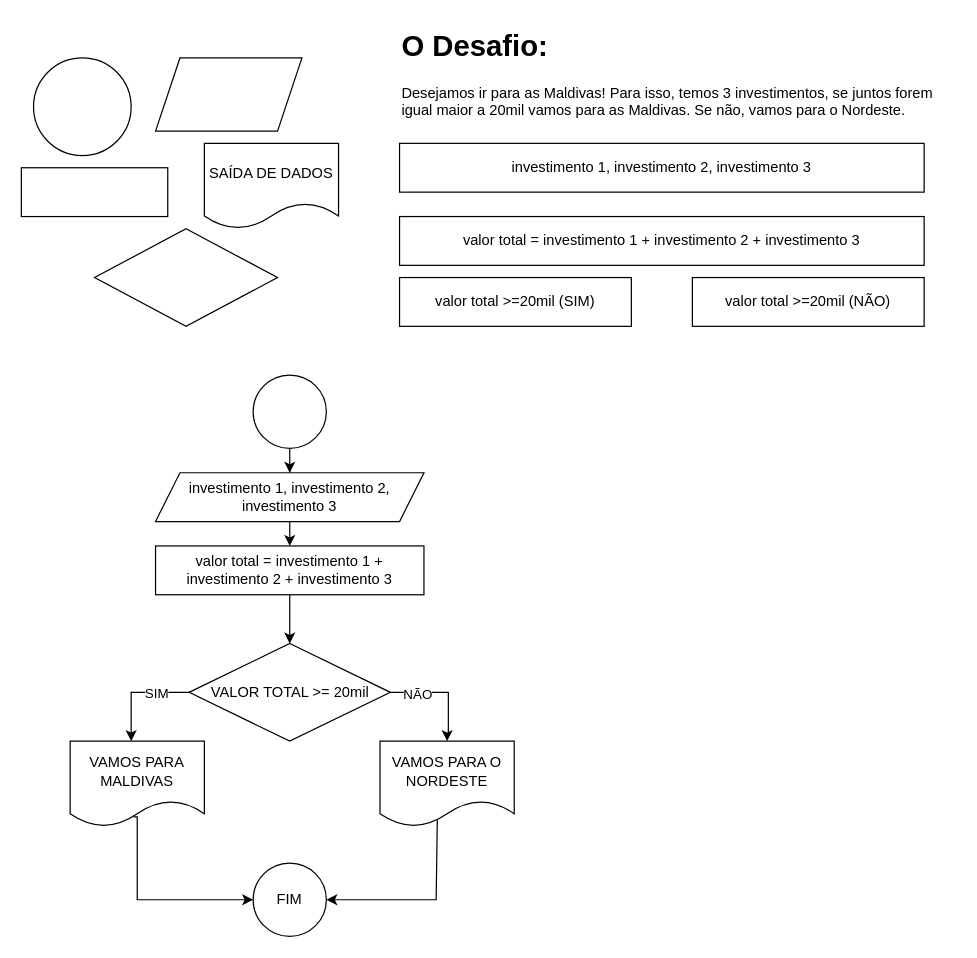
Some shapes in this 977 by 958 pixel diagram are drawn without their labels. Each missing label, with the centre of its shape:
DECISÃO: the point at 185,277
INICIO/FIM: the point at 81,106
INÍCIO: the point at 289,411
PROCESSAMENTO: the point at 94,192
RECEBE DADOS: the point at 228,94
